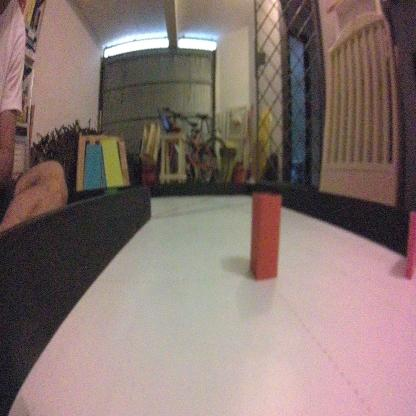red: (247, 186, 283, 288)
